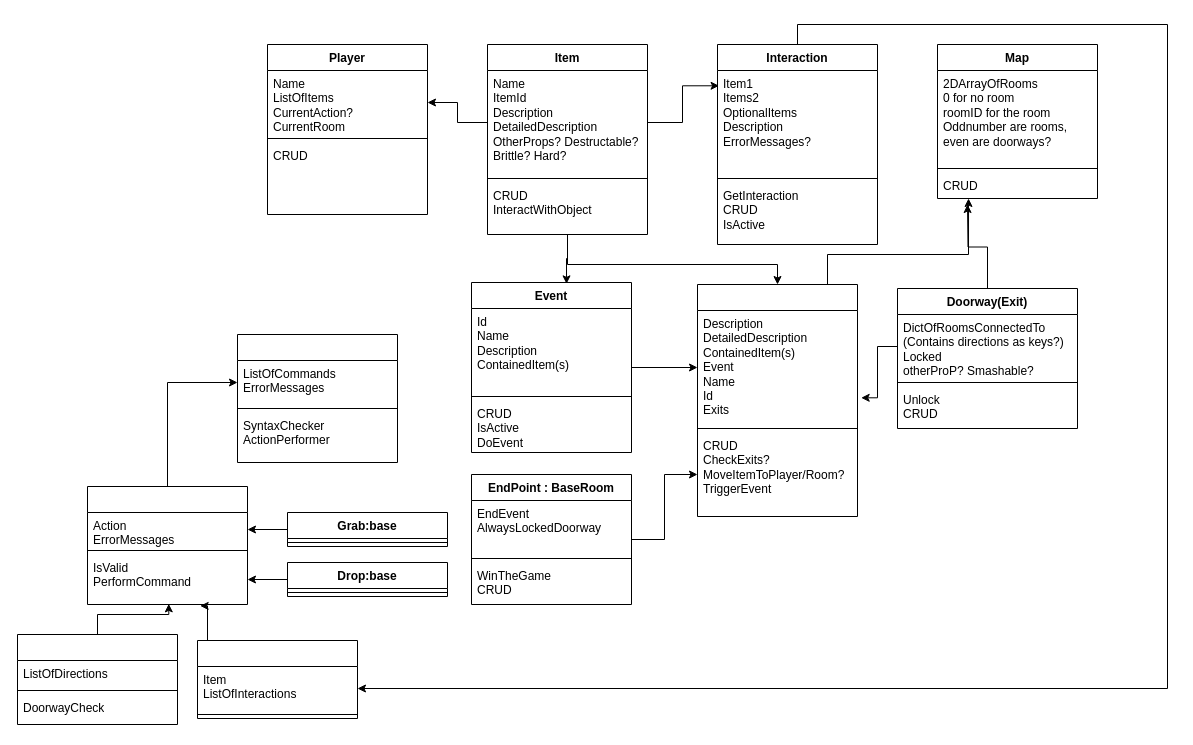
Some shapes in this 1193 by 745 pixel diagram are drawn without their labels. The shapes that lost their labels are listed below. From the top down, each one's box as (x1, y1, x2, y2) in pixels, then its label:
(236, 334, 398, 462): InputHandler
(696, 284, 858, 516): BaseRoom
(86, 486, 248, 604): BaseCommand
(16, 634, 178, 724): Move:base
(196, 640, 358, 718): UseItem:Base
